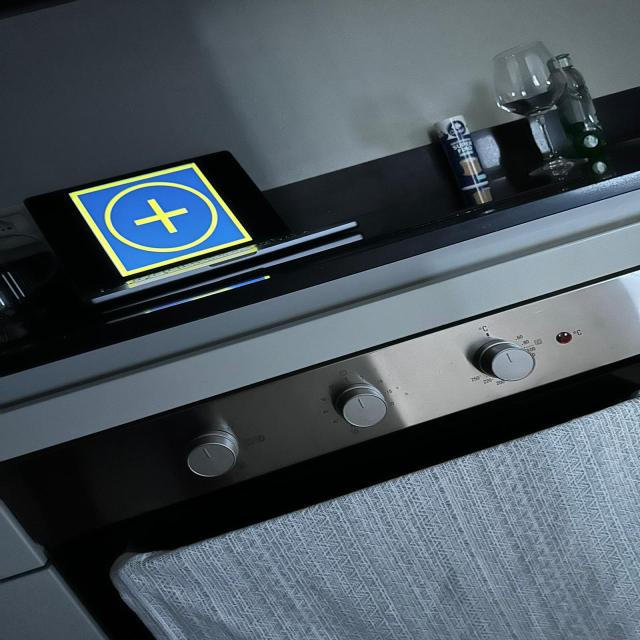Marker: (55, 156, 276, 286)
